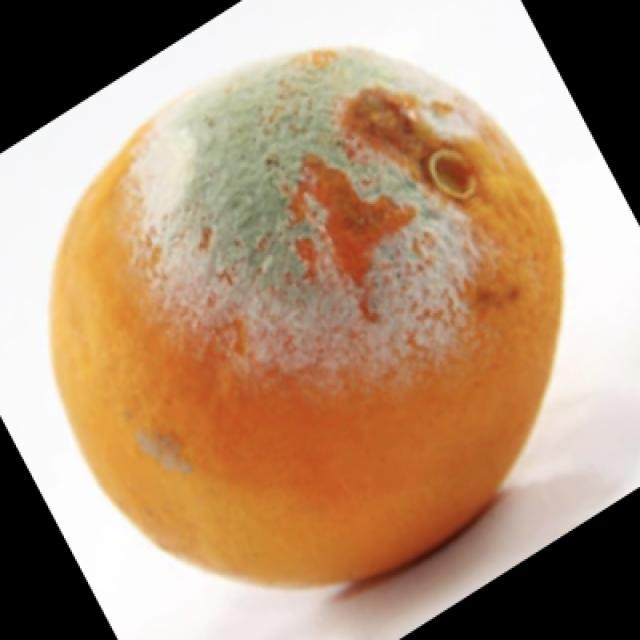sedikit-busuk: (52, 49, 562, 584), (141, 50, 454, 330)
